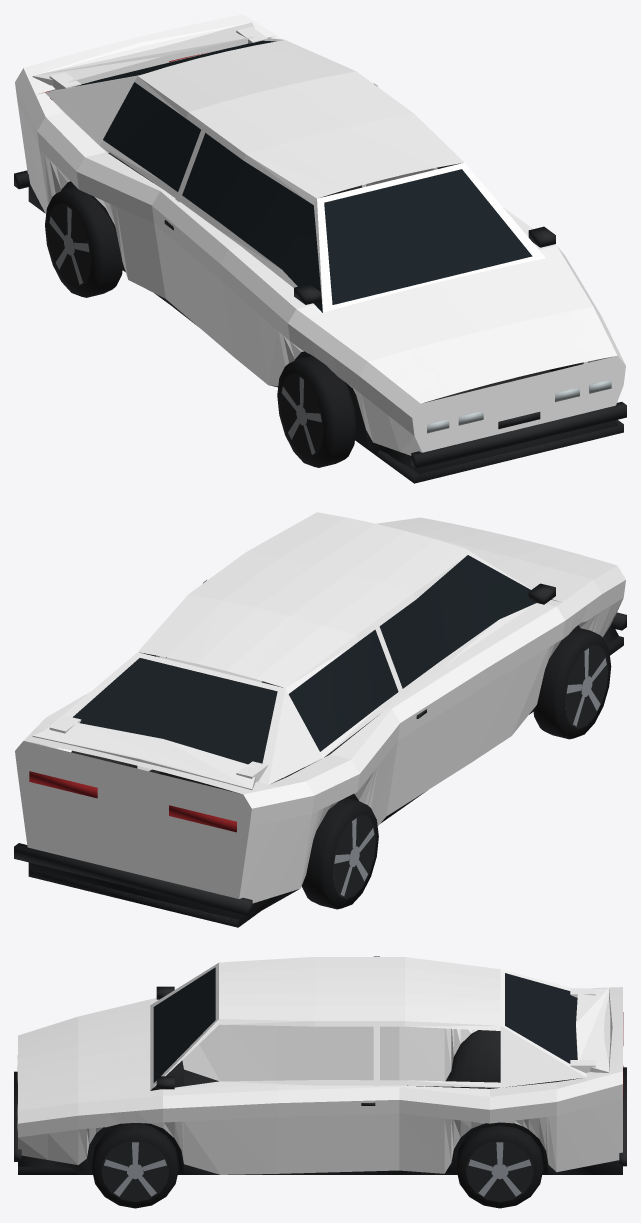
Rendered from garrison_ladeira.glb.
The picture shows the model from 3 angles, top to bottom: view 1: azimuth 30°, elevation 25°; view 2: azimuth 150°, elevation 25°; view 3: azimuth 270°, elevation 25°; orthographic projection. The views are drawn at different scales.
Parts seen in each view (by area): view 1: Body_Paint, Body_Details, Mount_FrontLeft_Wheel_Details, Mount_RearLeft_Wheel_Details; view 2: Body_Paint, Body_Details, Mount_FrontLeft_Wheel_Details, Mount_RearLeft_Wheel_Details; view 3: Body_Paint, Body_Details, Mount_FrontRight_Wheel_Details, Mount_RearRight_Wheel_Details.
Part boxes in pixels (<box>): Body_Paint: <box>15,14,625,455</box>; Body_Details: <box>14,40,626,483</box>; Mount_FrontLeft_Wheel_Details: <box>277,355,356,467</box>; Mount_RearLeft_Wheel_Details: <box>45,186,123,297</box>; Body_Paint: <box>15,512,625,903</box>; Body_Details: <box>14,555,626,927</box>; Mount_FrontLeft_Wheel_Details: <box>533,627,611,739</box>; Mount_RearLeft_Wheel_Details: <box>301,798,378,909</box>; Body_Paint: <box>18,956,622,1174</box>; Body_Details: <box>14,967,626,1174</box>; Mount_FrontRight_Wheel_Details: <box>91,1123,178,1208</box>; Mount_RearRight_Wheel_Details: <box>456,1125,543,1208</box>.
Size of the model in its own units: 1.84 by 1.33 by 4.36.
2 materials, 1 textured.
